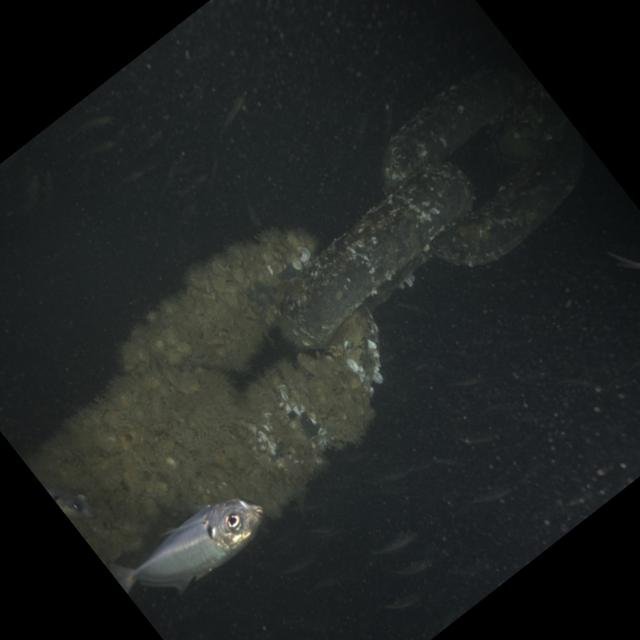ChainLink: (24, 367, 238, 566), (193, 310, 380, 513), (281, 162, 473, 347), (123, 230, 317, 373), (431, 131, 582, 265), (383, 70, 525, 193), (492, 82, 569, 160)
